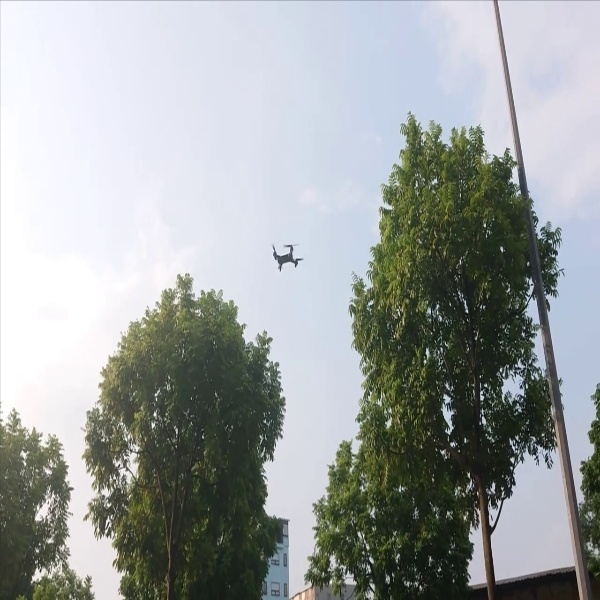drone: (269, 233, 305, 278)
